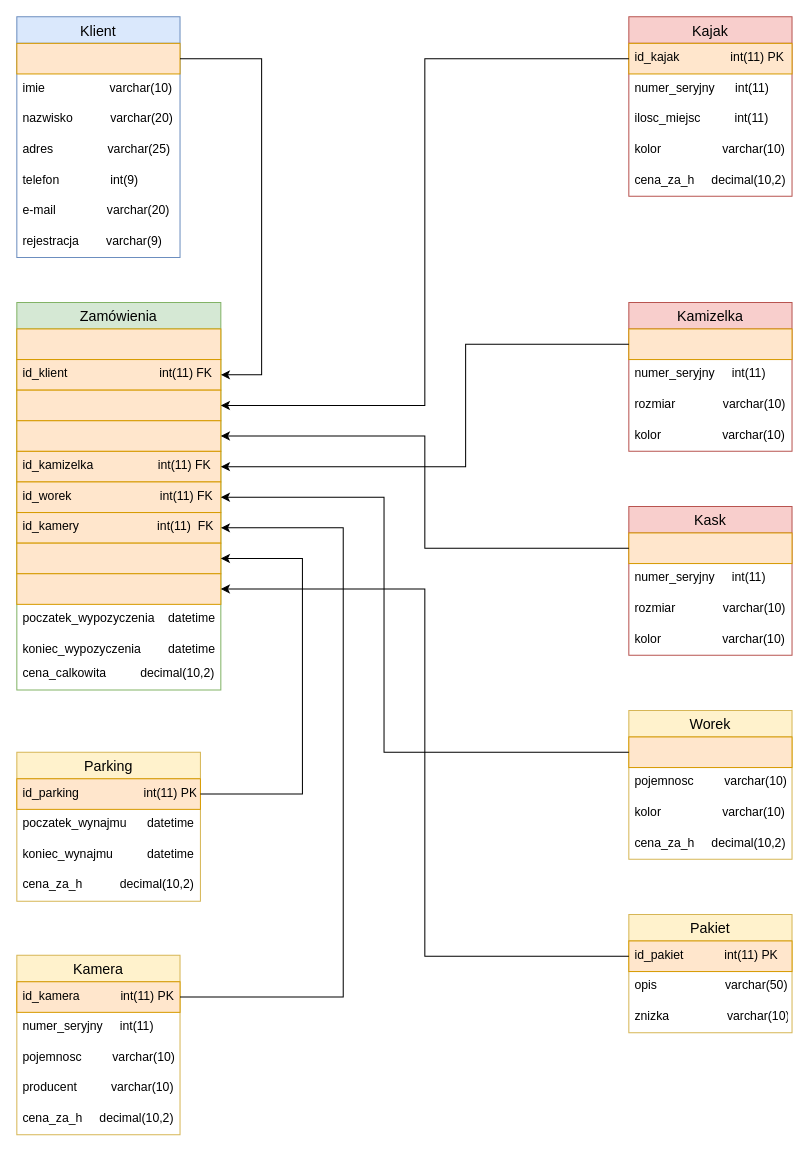
Some shapes in this 809 by 1152 pixel diagram are drawn without their labels. Each missing label, with the centre of its shape:
id_kajak int(11) FK: pixel 118 405
id_kamizelka int(11) PK: pixel 710 344
id_kask int(11) FK: pixel 118 435
id_kask int(11) PK: pixel 710 548
id_klient int(11) PK: pixel 98 58
id_pakiet int(11) FK: pixel 118 588
id_parking int(11) FK: pixel 118 558
id_worek int(11) PK: pixel 710 752
id_zamowienia int(11) PK: pixel 118 344
